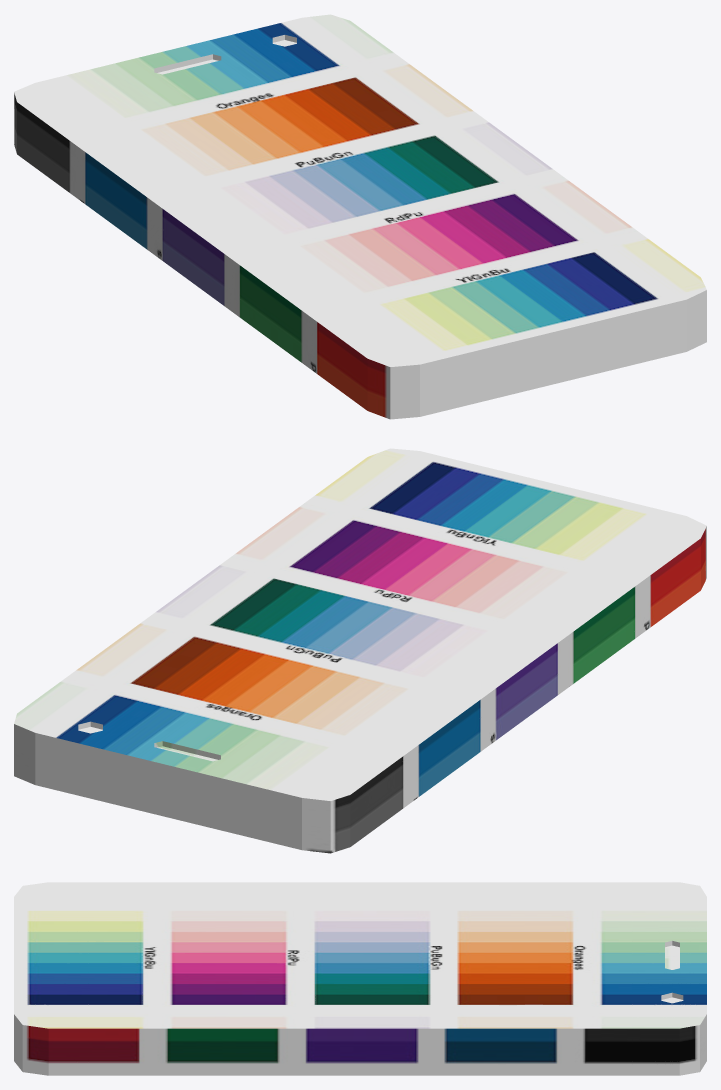
The model's file is Movil.fbx.
3 views of the same model, one above another, from view 1: azimuth 30°, elevation 25°; view 2: azimuth 150°, elevation 25°; view 3: azimuth 270°, elevation 25° (orthographic). The views are drawn at different scales.
Visible parts, largest first — view 1: Phone; view 2: Phone; view 3: Phone.
Boxes of the visible parts, x1,y1,x2,y2 form: Phone: (14,14,706,419); Phone: (14,448,706,853); Phone: (14,882,706,1075).
Bounding box in the file's own units: 20.48 × 3.07 × 40.96.
